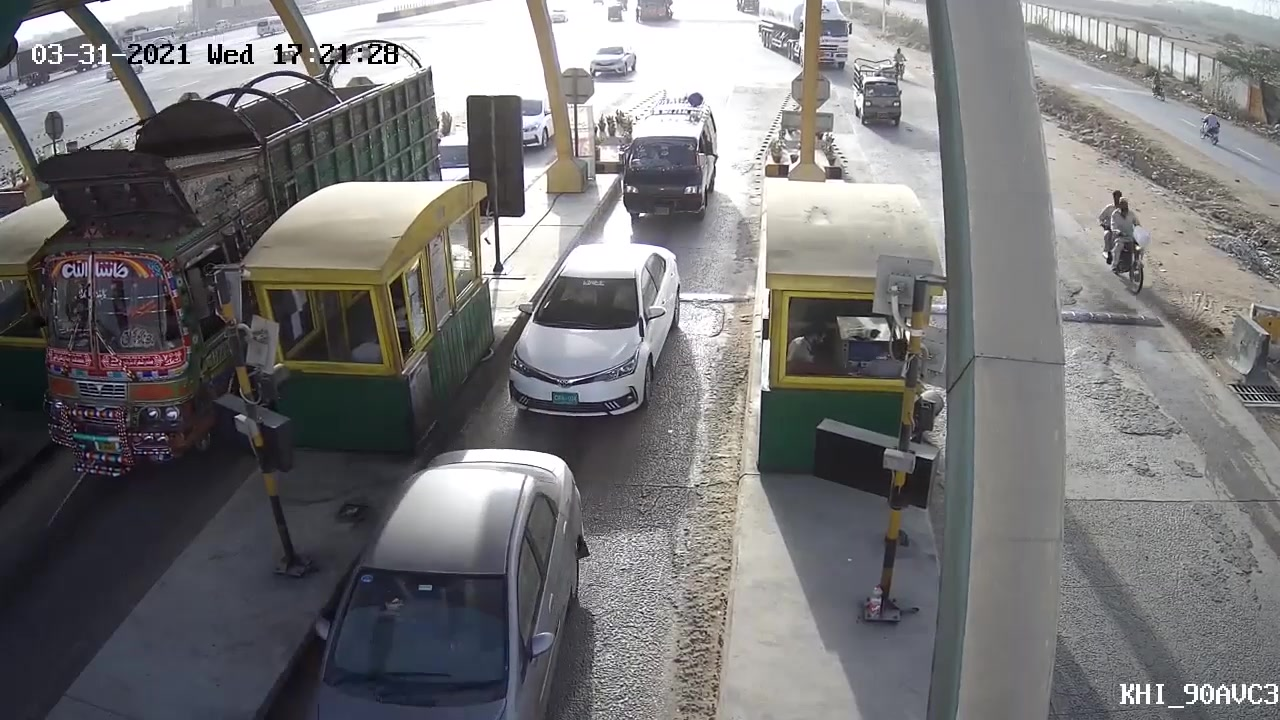F1: (482, 229, 689, 433)
